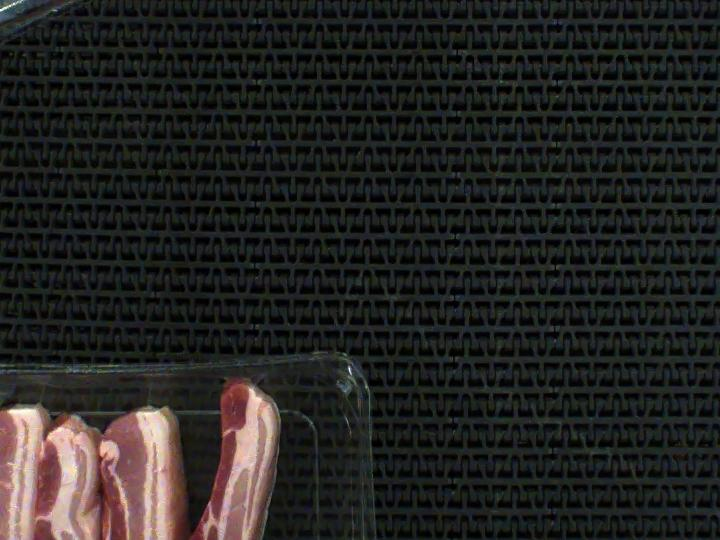loose-meat: (185, 372, 285, 540)
